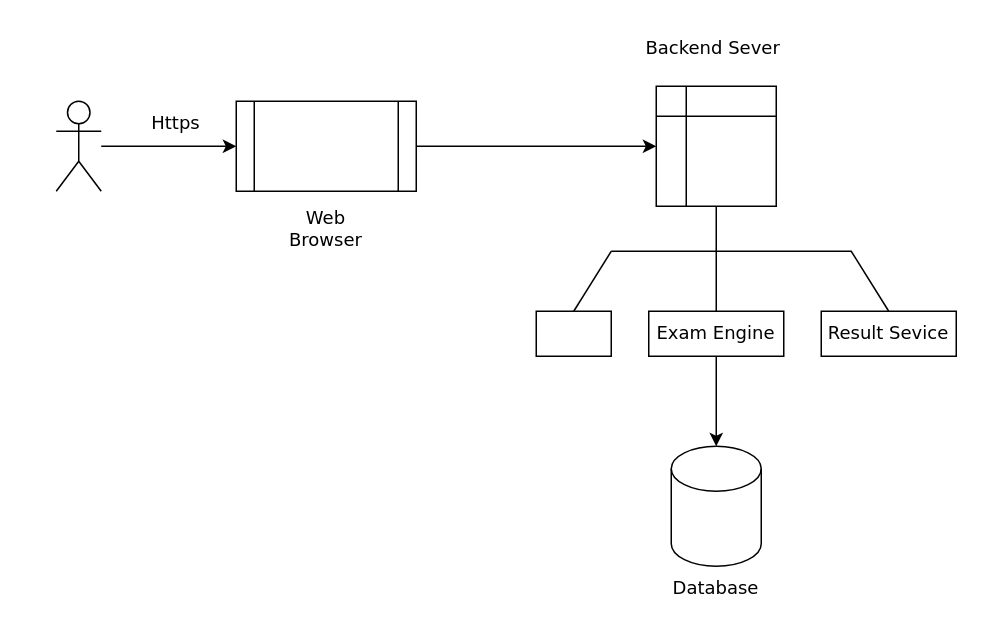
This 983x636 diagram has some shape labels left out. Here are the shapes that lost their labels. From the top down, the centre of each, then its label:
At point (78, 145): "User/Admin".
At point (573, 333): "Auth".
